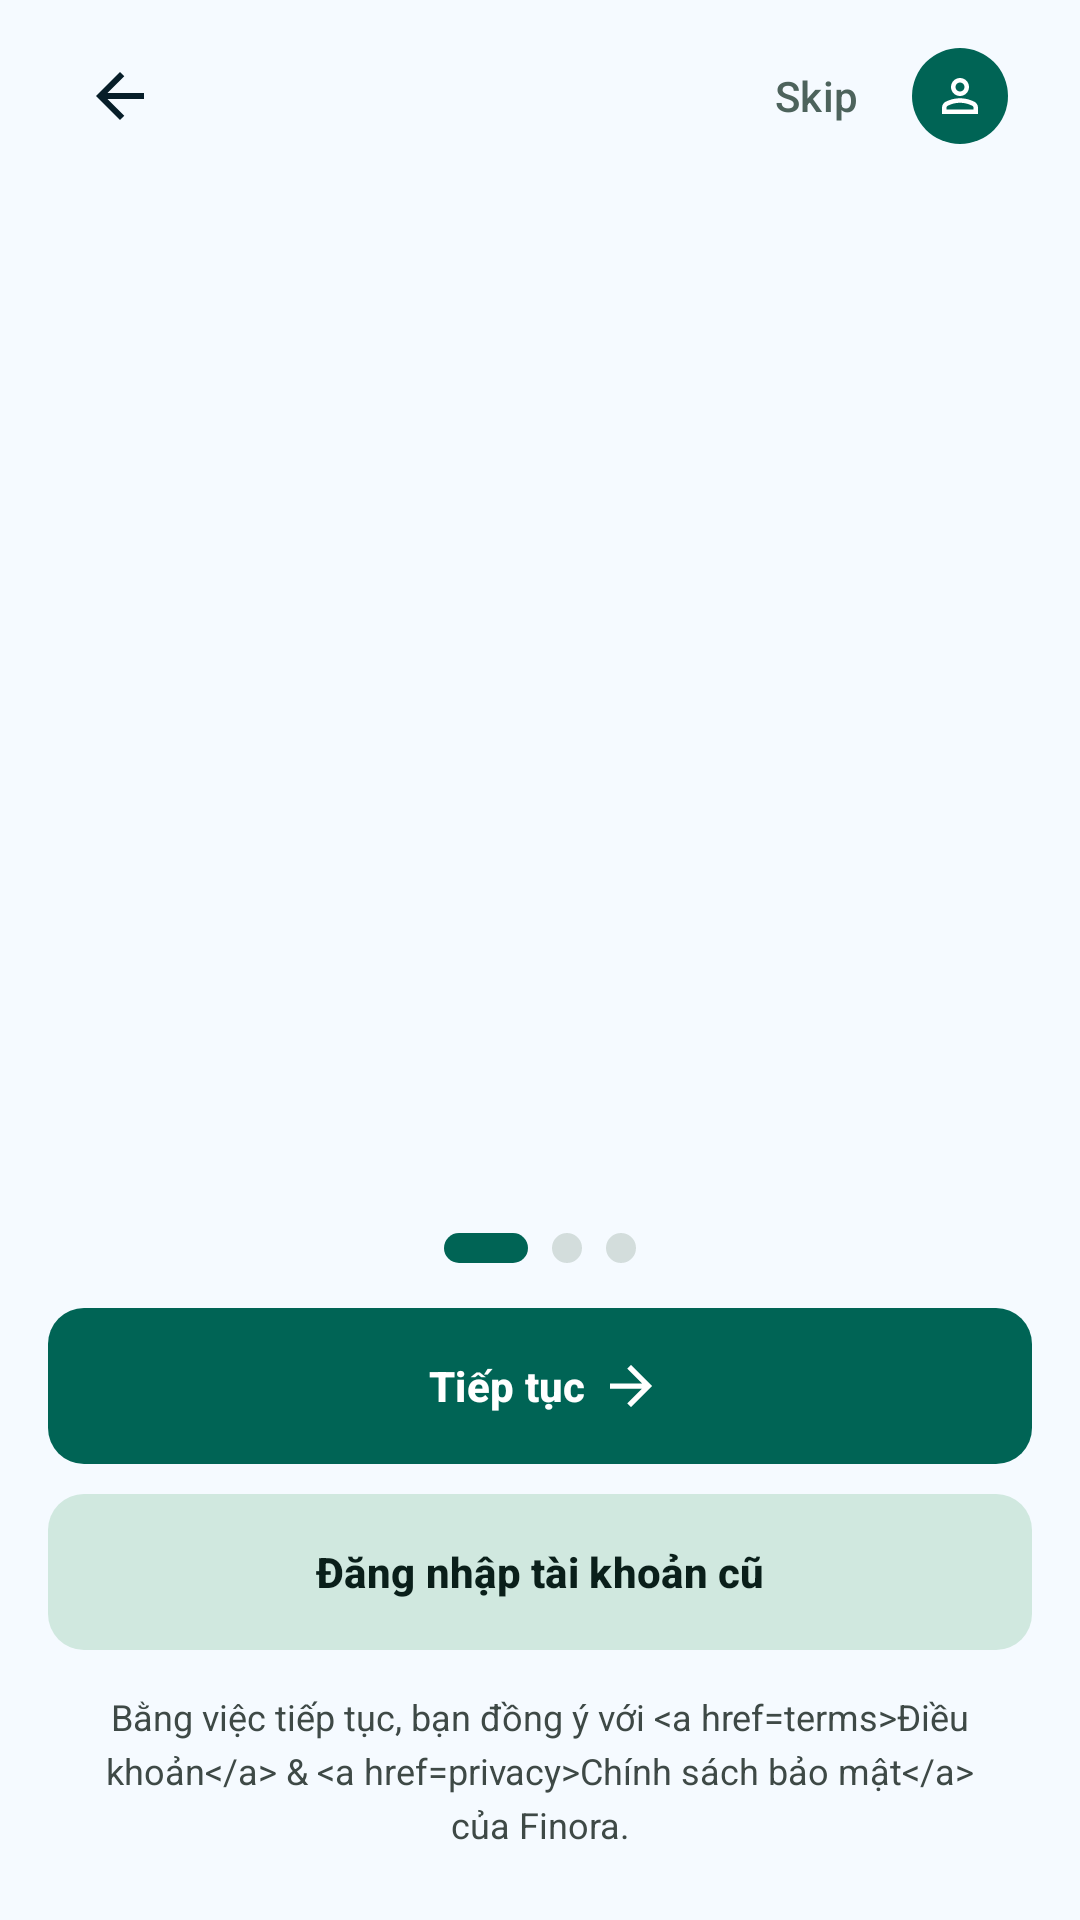

Where to tap for icons on this 1080px x 1920px app screen, as point (x, y):
onboarding account: point (960, 96)
onboarding back: point (120, 96)
